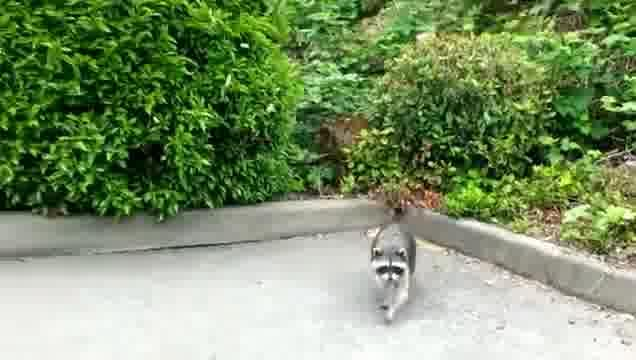raccoon: (367, 217, 420, 328)
